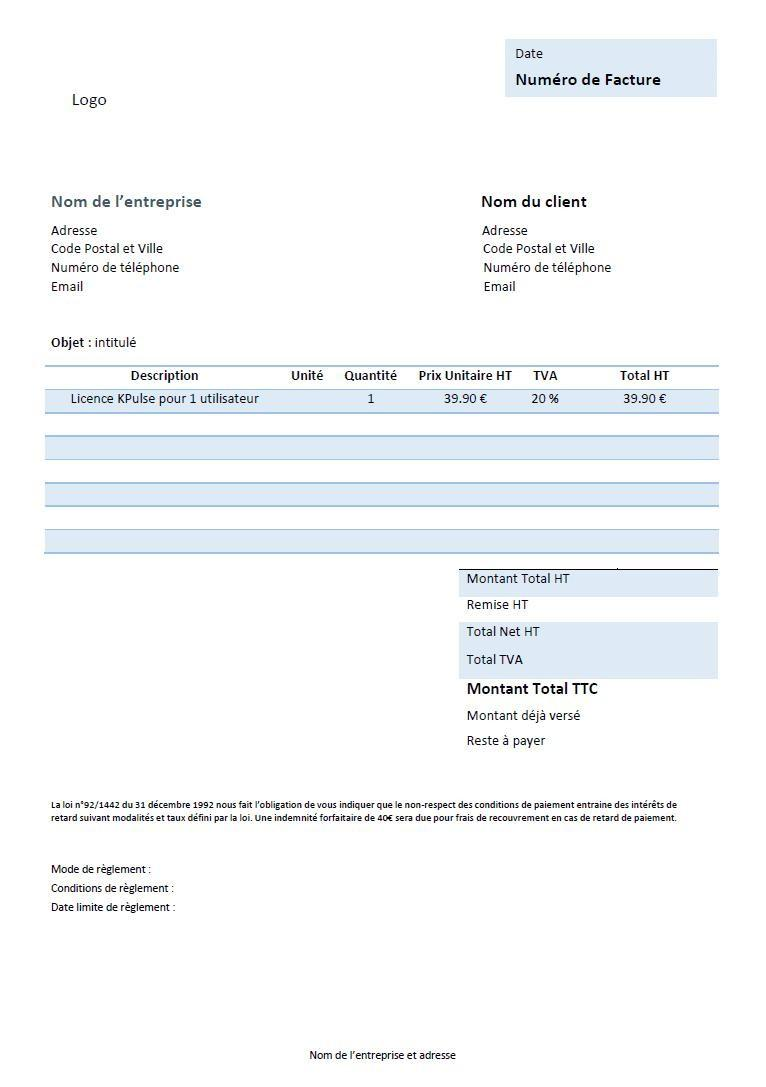ROI: (40, 333, 717, 557), (460, 573, 697, 756), (43, 190, 207, 300), (36, 851, 291, 920), (476, 187, 619, 297), (509, 40, 686, 94)
